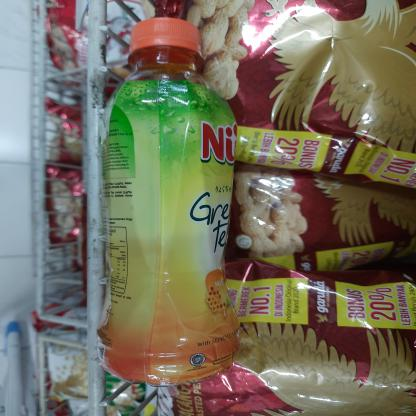bottle: (90, 14, 243, 390)
